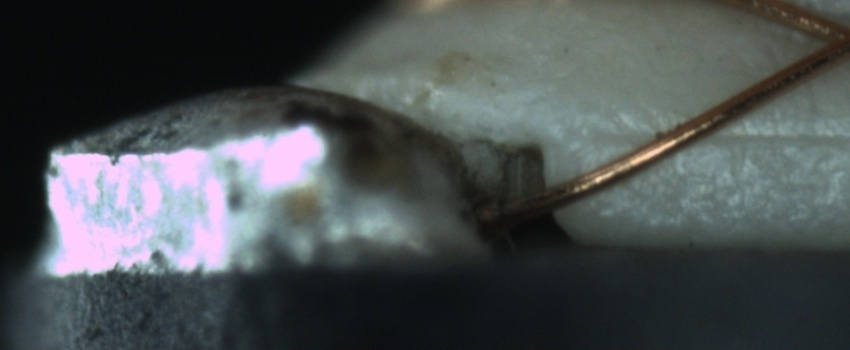CL: (796, 10, 850, 75)
DL: (607, 103, 844, 171)
